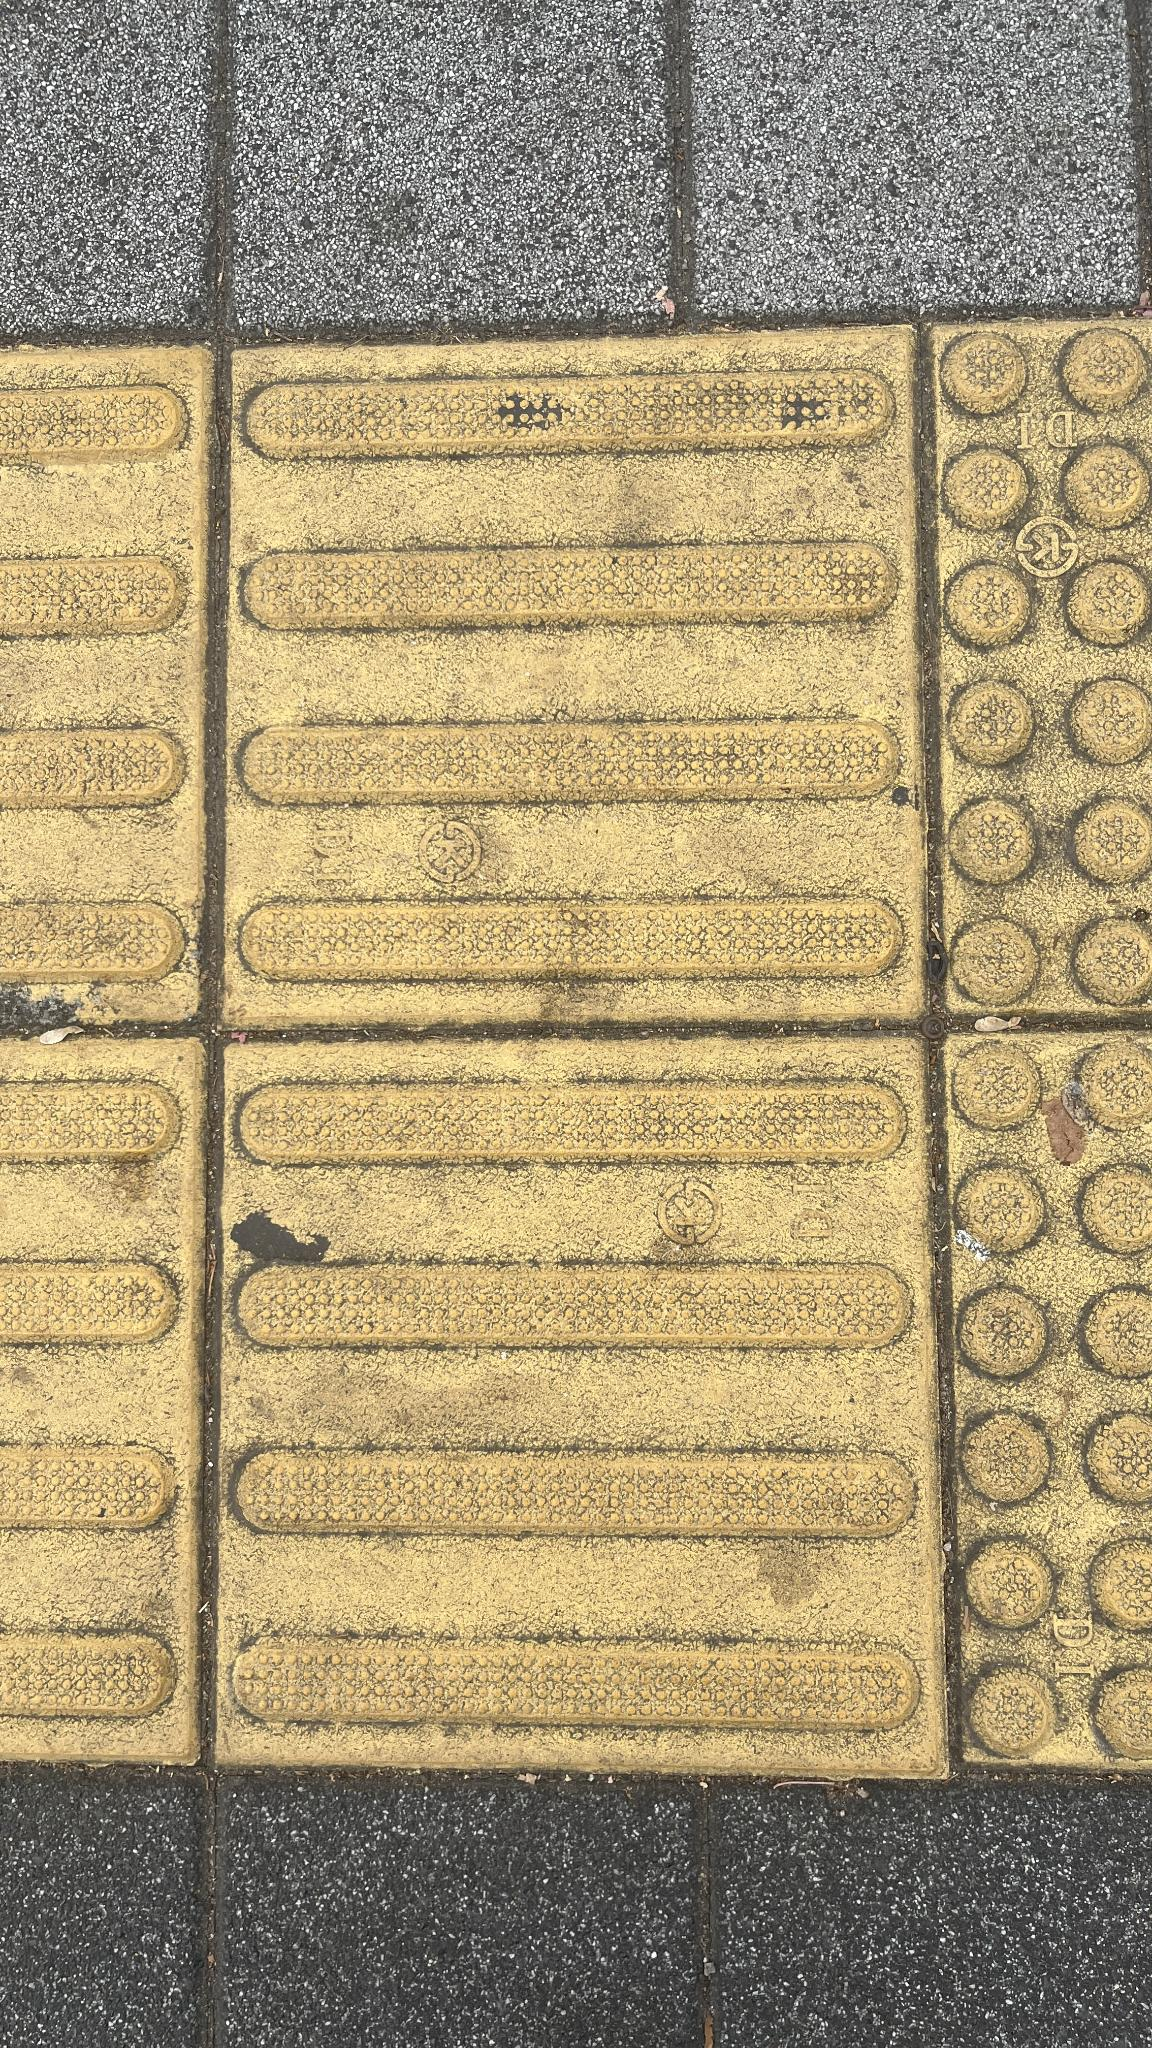Straight block normal: (221, 1039, 945, 1768), (236, 346, 919, 1016)
